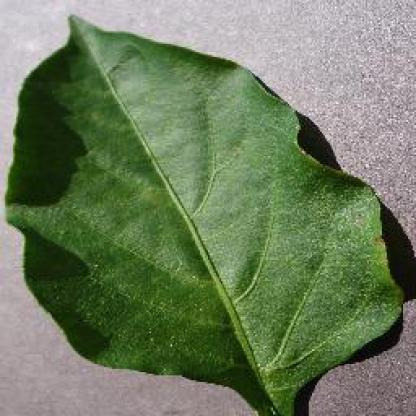good leaf: (6, 0, 415, 415)
